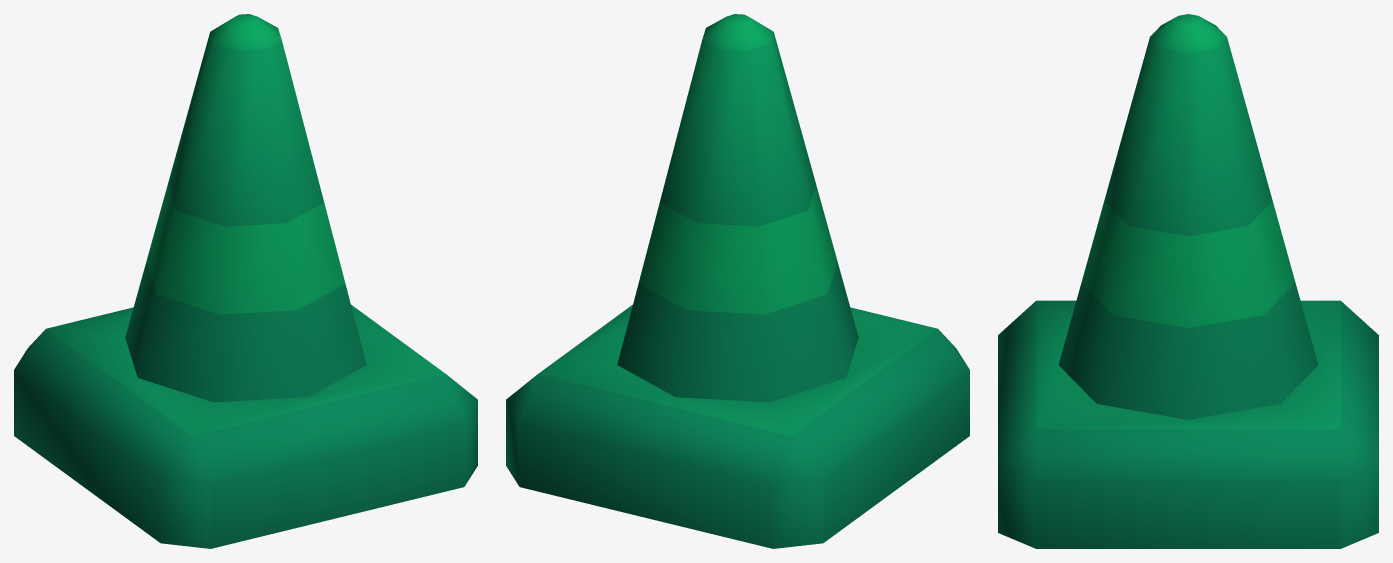
Rendered from cone_green.glb.
The picture shows the model from 3 angles, left to right: view 1: azimuth 30°, elevation 25°; view 2: azimuth 150°, elevation 25°; view 3: azimuth 270°, elevation 25°; orthographic projection. The views are drawn at different scales.
Parts seen in each view (by area): view 1: cone_green; view 2: cone_green; view 3: cone_green.
Boxes of the visible parts, <box> form: cone_green: <box>14,14,477,548</box>; cone_green: <box>506,14,969,548</box>; cone_green: <box>998,14,1378,548</box>.
Size of the model in its own units: 0.5 by 0.65 by 0.5.
1 material, 1 textured.
